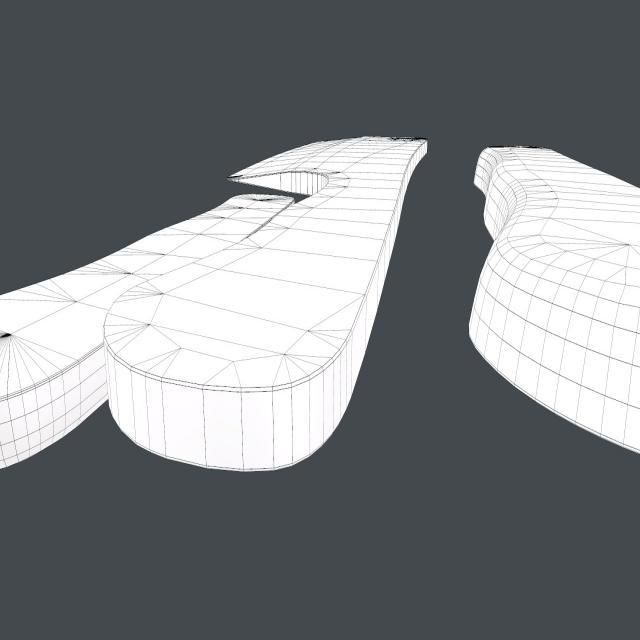cleaver: (0, 128, 432, 482)
